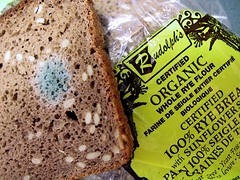mold_bread: (32, 56, 77, 105)
